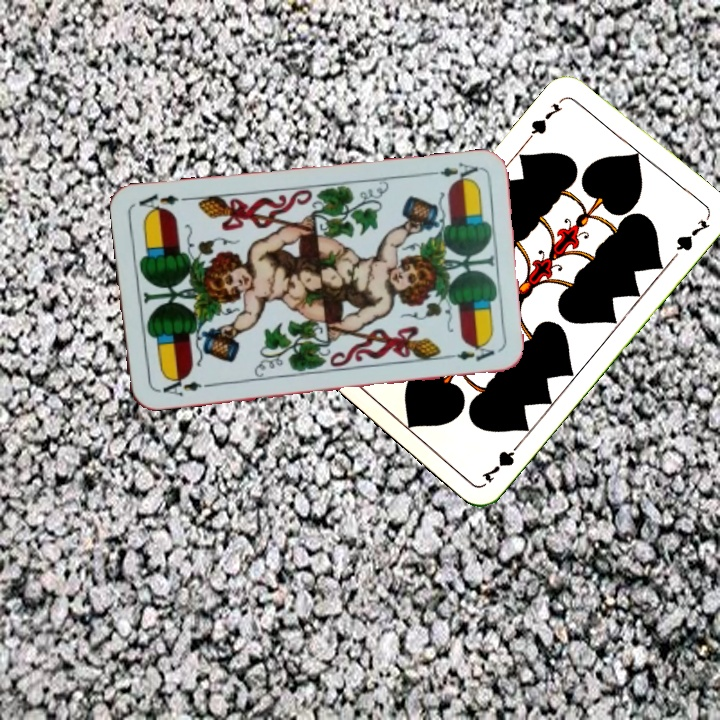EA: (152, 371, 212, 400), (422, 158, 481, 186)
G7: (477, 436, 525, 485), (524, 93, 568, 142)
